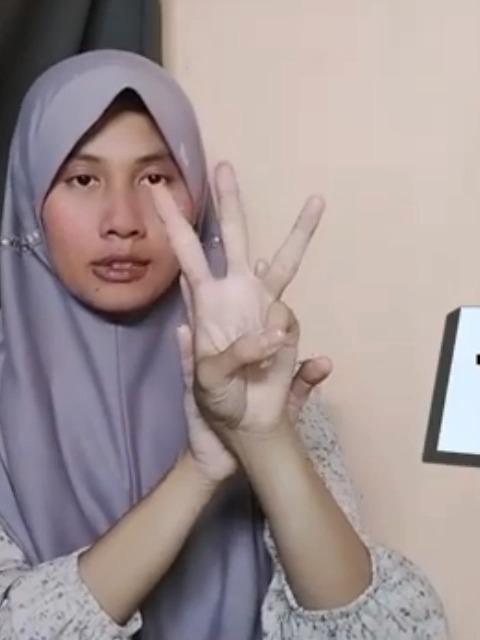W: (151, 158, 333, 430)
